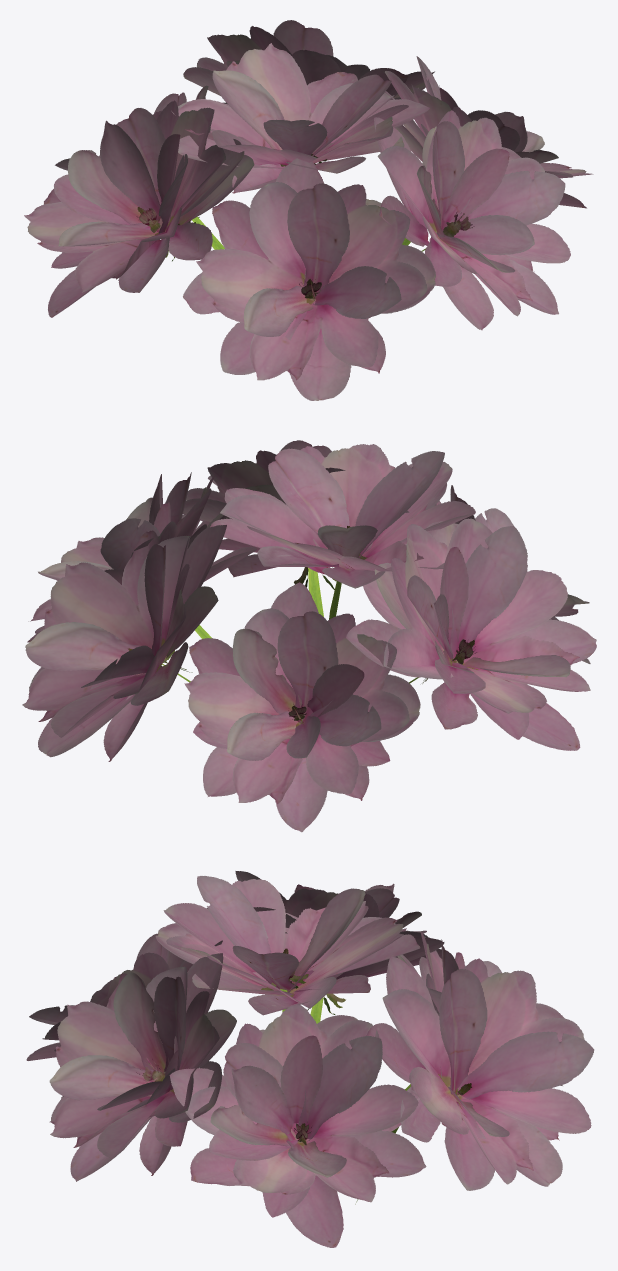
3 views of the same model, one above another, from view 1: azimuth 30°, elevation 25°; view 2: azimuth 150°, elevation 25°; view 3: azimuth 270°, elevation 25° (orthographic). The views are drawn at different scales.
Visible parts, largest first — view 1: 647a28ca; view 2: 647a28ca; view 3: 647a28ca.
Boxes of the visible parts, x1,y1,x2,y2 form: 647a28ca: (24,20,593,400); 647a28ca: (22,440,596,832); 647a28ca: (26,871,594,1247).
Size of the model in its own units: 0.1912 by 0.1009 by 0.1816.
2 materials, 2 textured.
